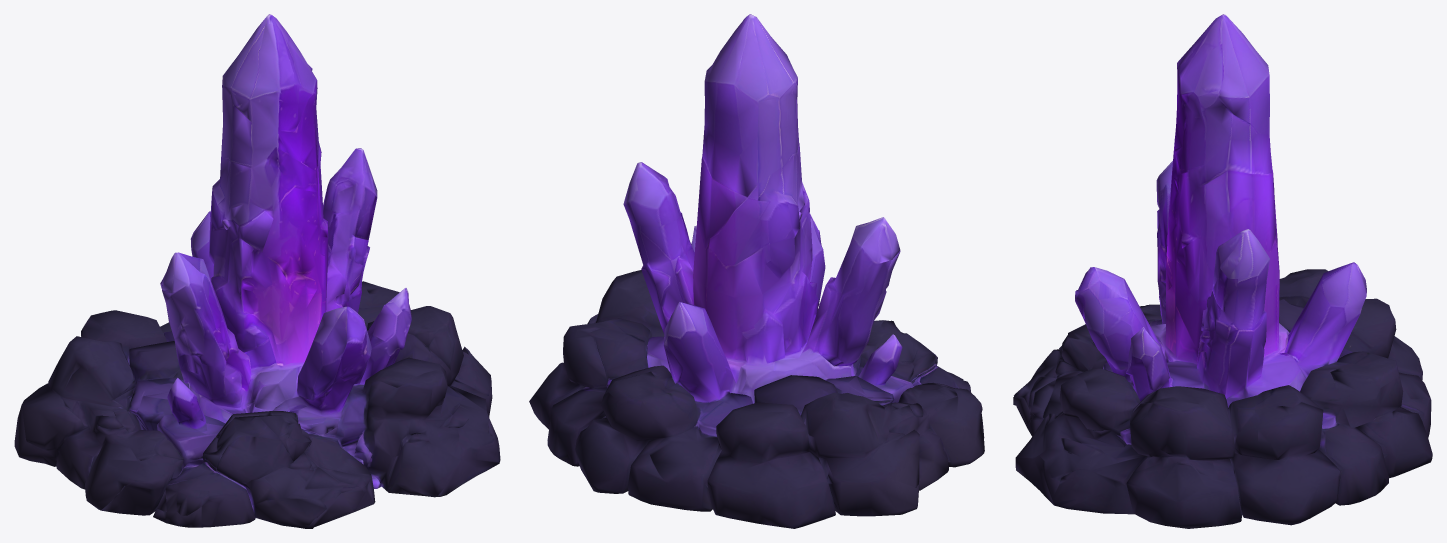
Rendered from prop_rift_crystal.fbx.
3 views of the same model, side by side, from view 1: azimuth 30°, elevation 25°; view 2: azimuth 150°, elevation 25°; view 3: azimuth 270°, elevation 25° (orthographic).
Parts seen in each view (by area): view 1: prop_rift_crystal_LOD0; view 2: prop_rift_crystal_LOD0; view 3: prop_rift_crystal_LOD0.
Part boxes in pixels (<box>): prop_rift_crystal_LOD0: <box>14,14,500,528</box>; prop_rift_crystal_LOD0: <box>529,14,984,528</box>; prop_rift_crystal_LOD0: <box>1013,14,1432,528</box>.
Size of what is drawn, in the model's own units: 0.9803 by 0.9677 by 0.8751.
